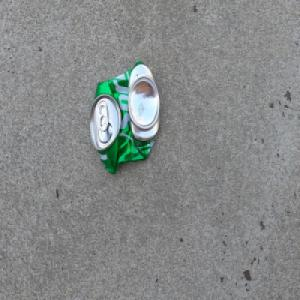SodaCan: (88, 59, 160, 176)
